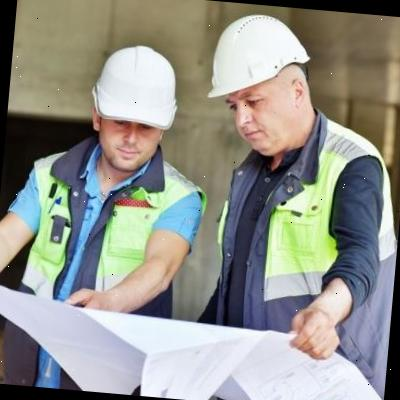helmet: (205, 9, 319, 109), (87, 40, 184, 134)
wear: (216, 152, 400, 338), (25, 149, 203, 313)
